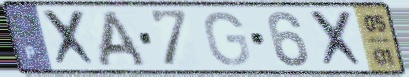6: (265, 9, 311, 69)
7: (149, 8, 192, 69)
A: (96, 8, 150, 69)
G: (202, 10, 253, 68)
X: (39, 7, 102, 70), (307, 8, 369, 70)
